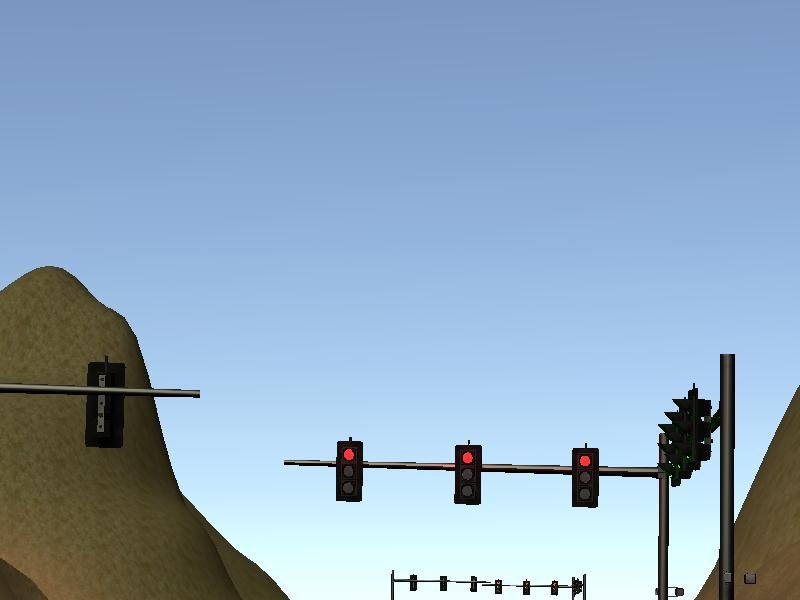red: (334, 438, 364, 503), (452, 442, 482, 507), (571, 445, 601, 510)
